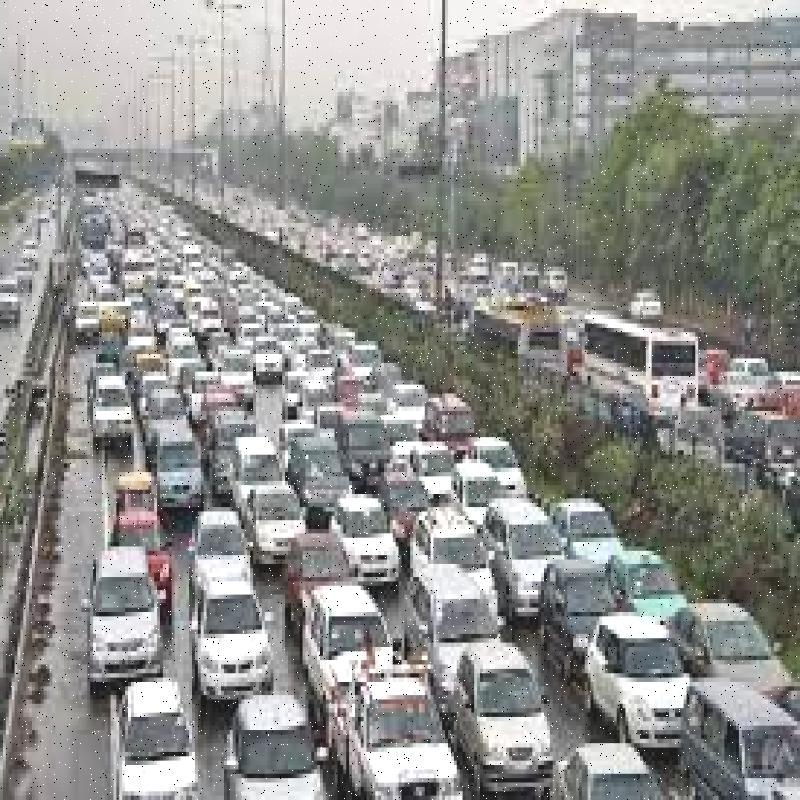car: (223, 685, 330, 800), (470, 638, 544, 794), (287, 575, 388, 689), (111, 671, 197, 800), (363, 660, 441, 800), (604, 615, 678, 751), (199, 573, 270, 704), (422, 556, 482, 684), (545, 556, 614, 666), (92, 542, 149, 671), (494, 490, 550, 616), (333, 490, 402, 580), (251, 471, 311, 573), (145, 419, 210, 508), (179, 510, 243, 594), (334, 411, 392, 489), (619, 538, 672, 622), (80, 375, 134, 450), (468, 423, 513, 502), (250, 327, 286, 394)
